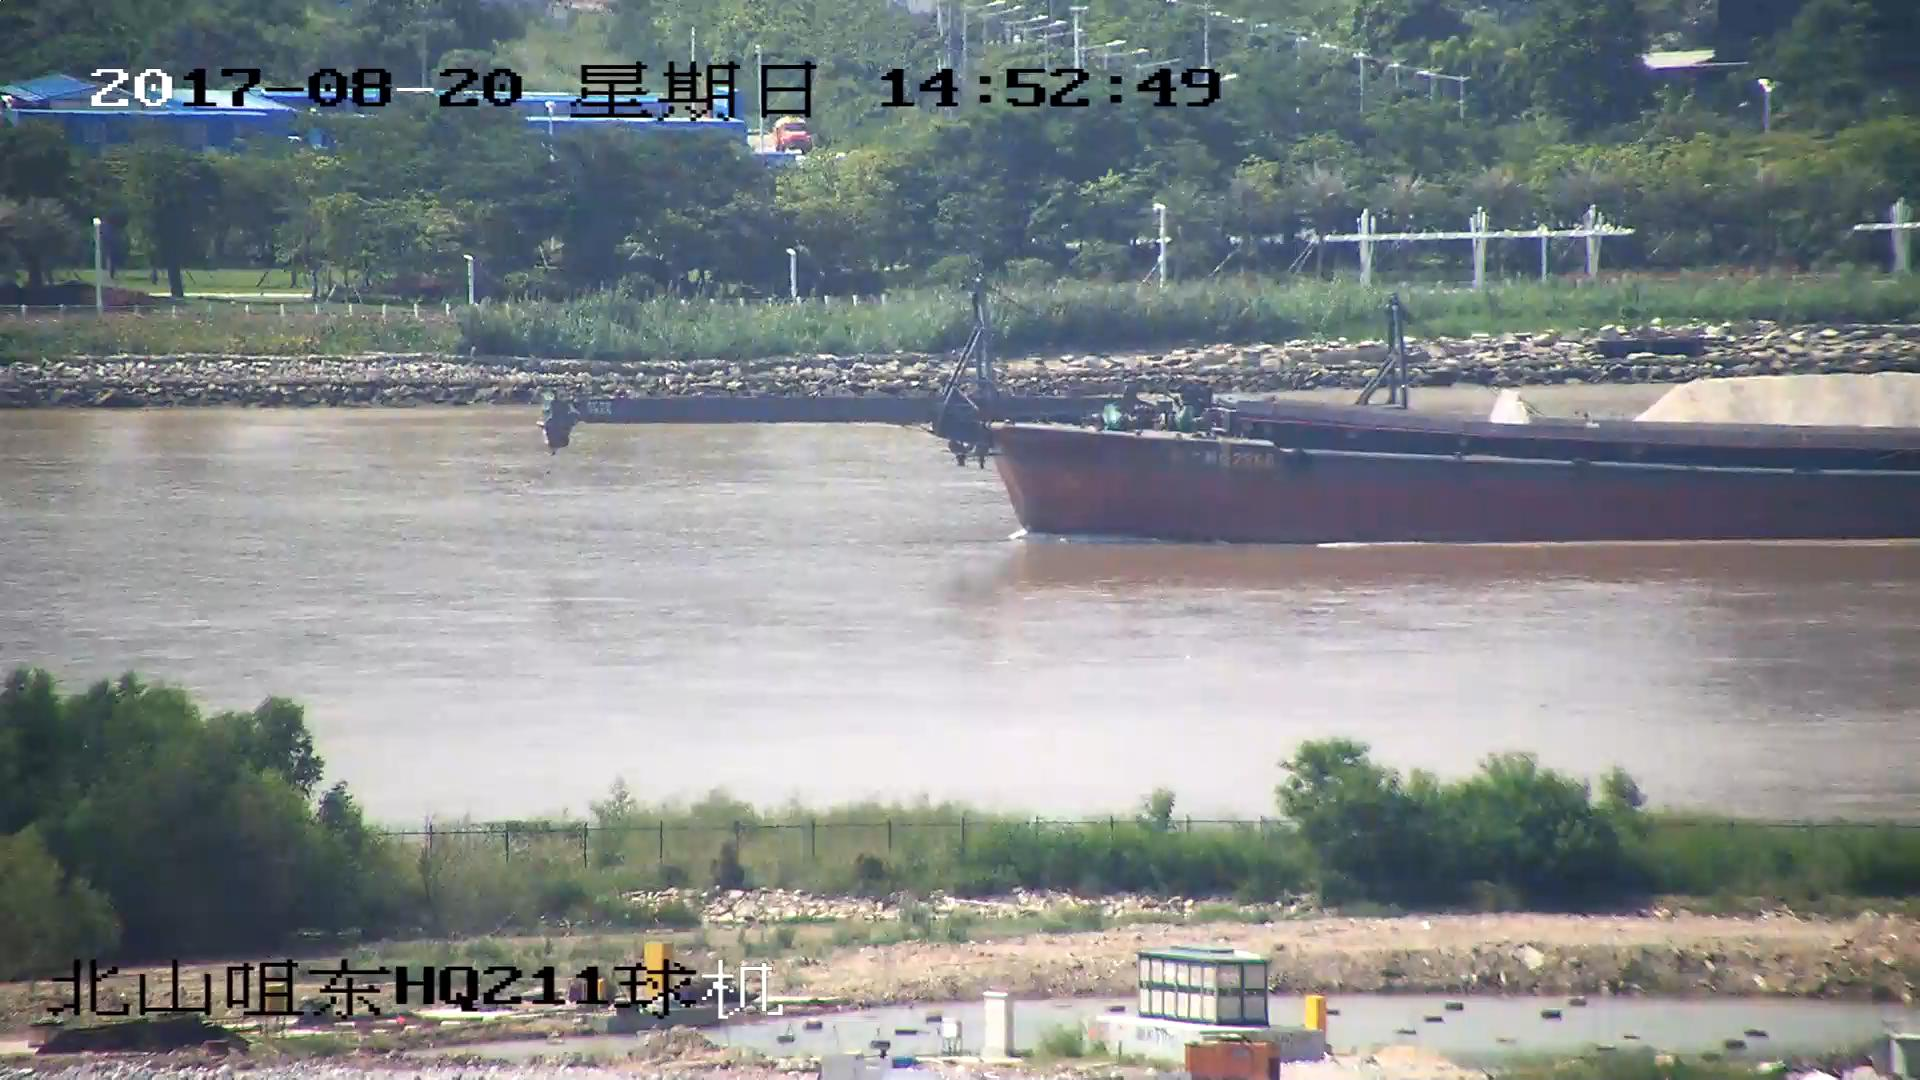bulk cargo carrier: (544, 307, 1920, 538)
ore carrier: (1238, 314, 1920, 443)
